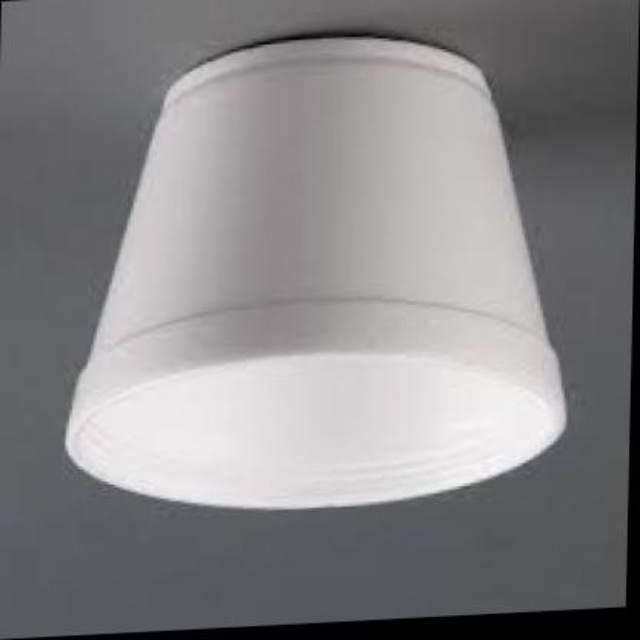trash: (66, 38, 563, 508)
